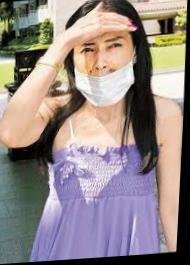WRONG: (72, 33, 137, 109)
